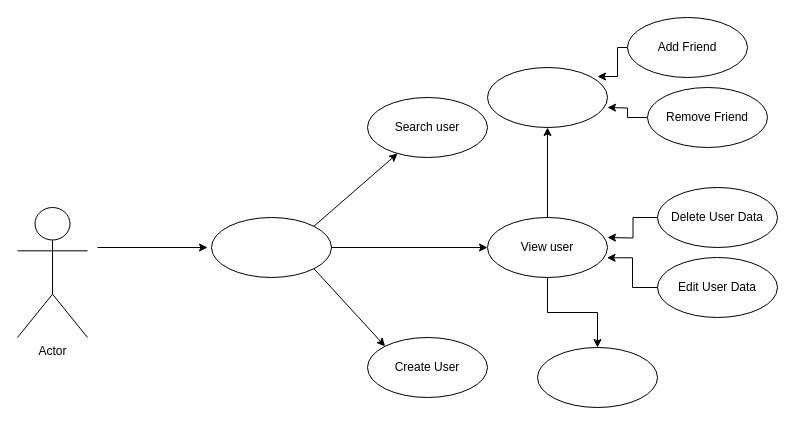
The diagram is 795 pixels wide and 425 high, and some of its shapes have lost their labels. Here are the shapes that lost their labels. From the top down, the box of each, then its label:
(486, 66, 608, 128): View Friends
(210, 216, 332, 278): View Tables
(536, 346, 658, 408): View messsages
